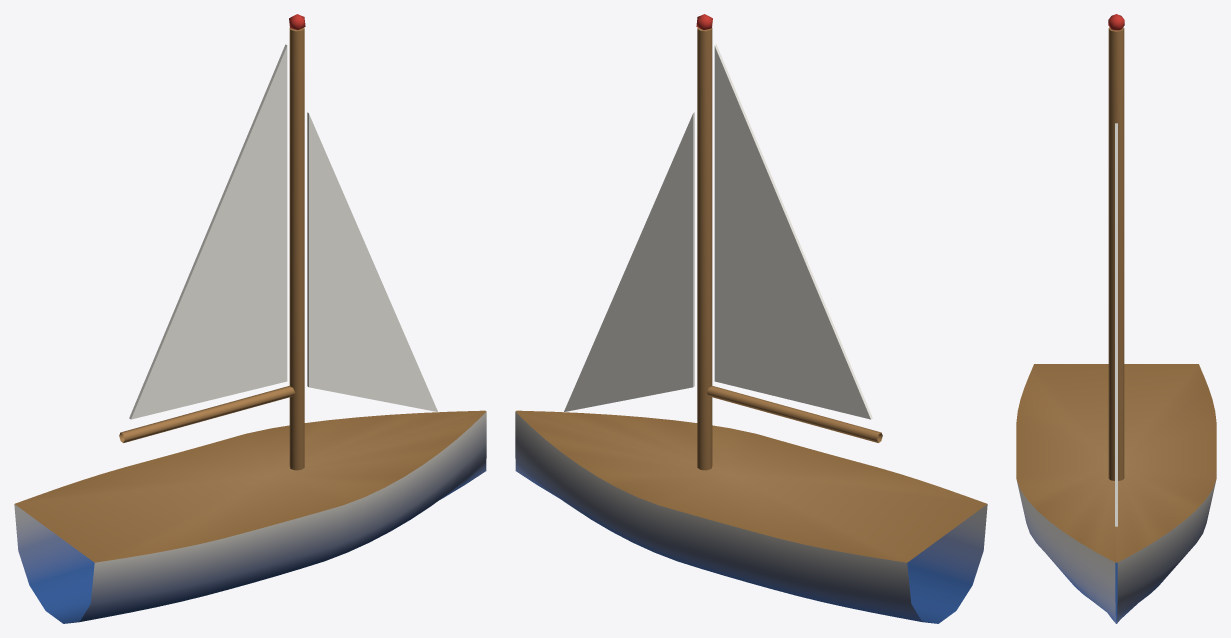
Rendered from sea_sail.glb.
3 views of the same model, side by side, from view 1: azimuth 30°, elevation 25°; view 2: azimuth 150°, elevation 25°; view 3: azimuth 270°, elevation 25° (orthographic). The views are drawn at different scales.
Visible parts, largest first — view 1: sea_sail_main, sea_sail_sail; view 2: sea_sail_main, sea_sail_sail; view 3: sea_sail_main, sea_sail_sail.
Part boxes in pixels (bbox=[...]): sea_sail_main: bbox=[14, 14, 486, 623]; sea_sail_sail: bbox=[129, 44, 437, 419]; sea_sail_main: bbox=[515, 14, 987, 623]; sea_sail_sail: bbox=[564, 44, 872, 419]; sea_sail_main: bbox=[1016, 14, 1216, 623]; sea_sail_sail: bbox=[1115, 123, 1117, 526].
Size of the model in its own units: 1.6 by 1.93 by 0.628.
